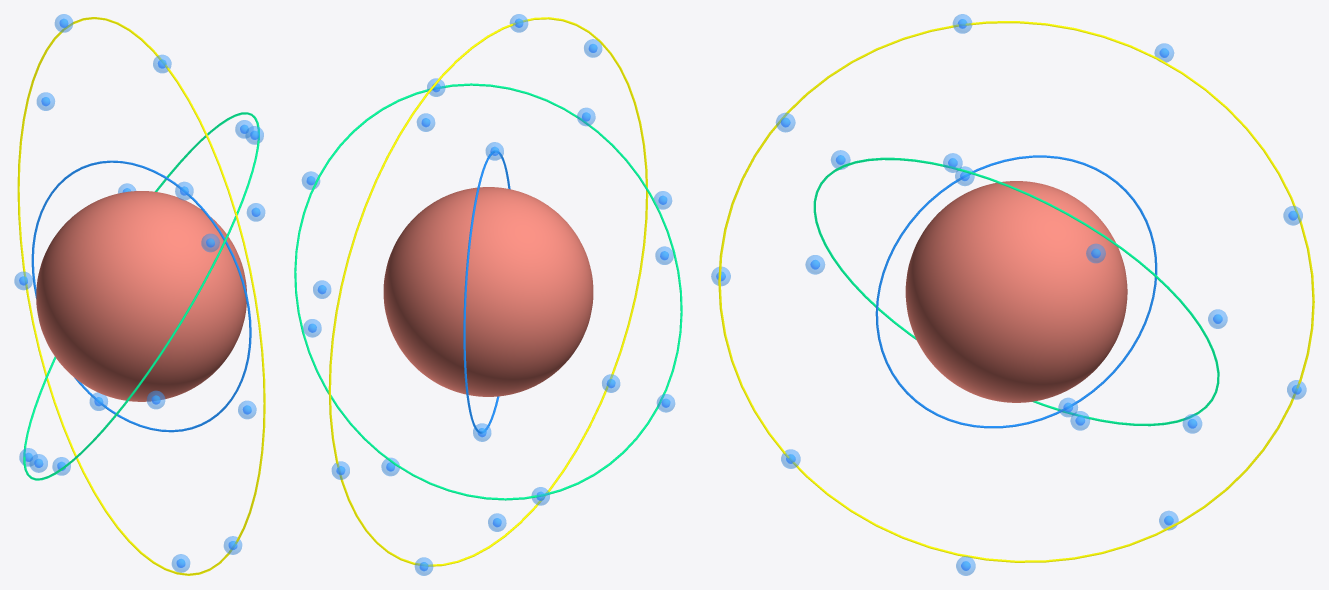
3 renders of one model, left to right at view 1: azimuth 30°, elevation 25°; view 2: azimuth 150°, elevation 25°; view 3: azimuth 270°, elevation 25°, orthographic. The views are drawn at different scales.
Visible parts, largest first — view 1: K, object 24, object 7, object 2; view 2: K, object 24, object 7, object 2; view 3: K, object 24, object 7, object 2.
Boxes of the visible parts, box(x1,y1,x2,y2) form: K: box(36, 191, 246, 401); object 24: box(17, 17, 265, 575); object 7: box(23, 112, 259, 480); object 2: box(31, 160, 251, 432); K: box(383, 187, 593, 396); object 24: box(328, 17, 648, 566); object 7: box(294, 83, 682, 500); object 2: box(463, 150, 510, 433); K: box(905, 181, 1127, 402); object 24: box(718, 21, 1314, 562); object 7: box(813, 157, 1219, 426); object 2: box(875, 155, 1157, 428).
Bounding box in the file's own units: 2.91 × 4.89 × 4.86.
